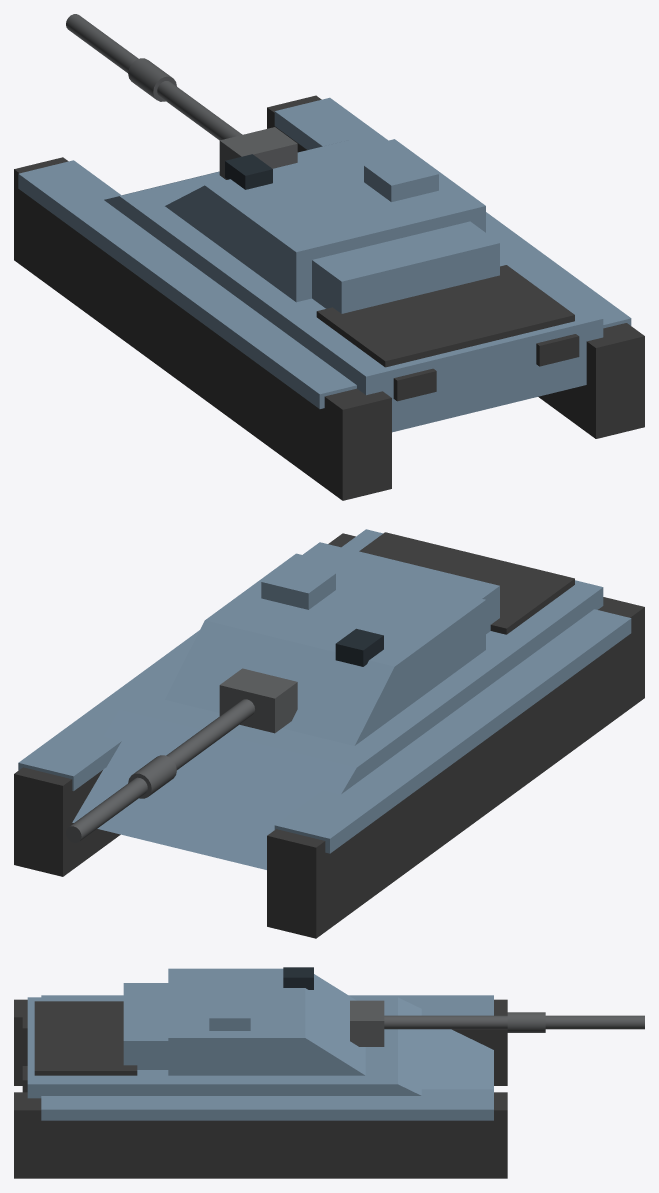
File: tank.glb
3 views of the same model, one above another, from view 1: azimuth 30°, elevation 25°; view 2: azimuth 150°, elevation 25°; view 3: azimuth 270°, elevation 25° (orthographic). The views are drawn at different scales.
Parts seen in each view (by area): view 1: TankHull, TankTurret; view 2: TankHull, TankTurret; view 3: TankHull, TankTurret.
Part boxes in pixels (x1,y1,x2,y2): TankHull: [14, 95, 644, 500]; TankTurret: [66, 14, 499, 313]; TankHull: [14, 529, 644, 938]; TankTurret: [66, 547, 499, 842]; TankHull: [14, 995, 507, 1178]; TankTurret: [123, 967, 644, 1075].
Bounding box in the file's own units: 3.94 × 2.13 × 9.2.
